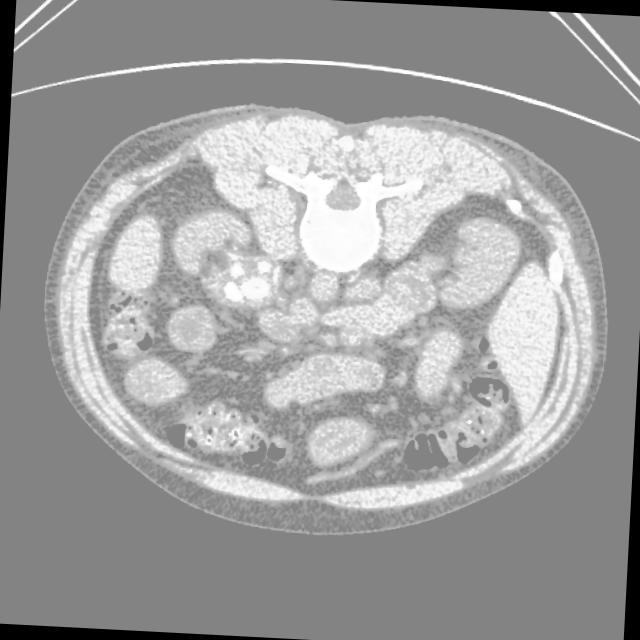STONE: (74, 282, 552, 550)
